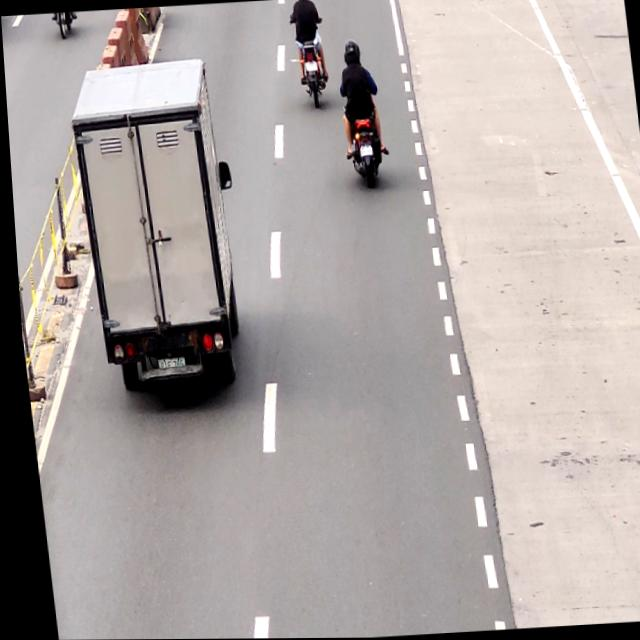License-Plate: (154, 357, 182, 374), (357, 142, 374, 159), (302, 60, 319, 72)
Motorcycle: (334, 38, 386, 186), (290, 0, 330, 108)
Truck: (65, 55, 240, 384)
